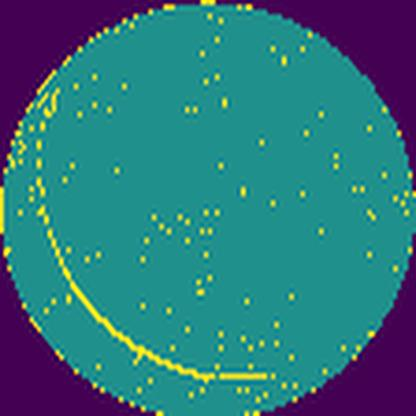Scratch: (34, 84, 274, 384)
